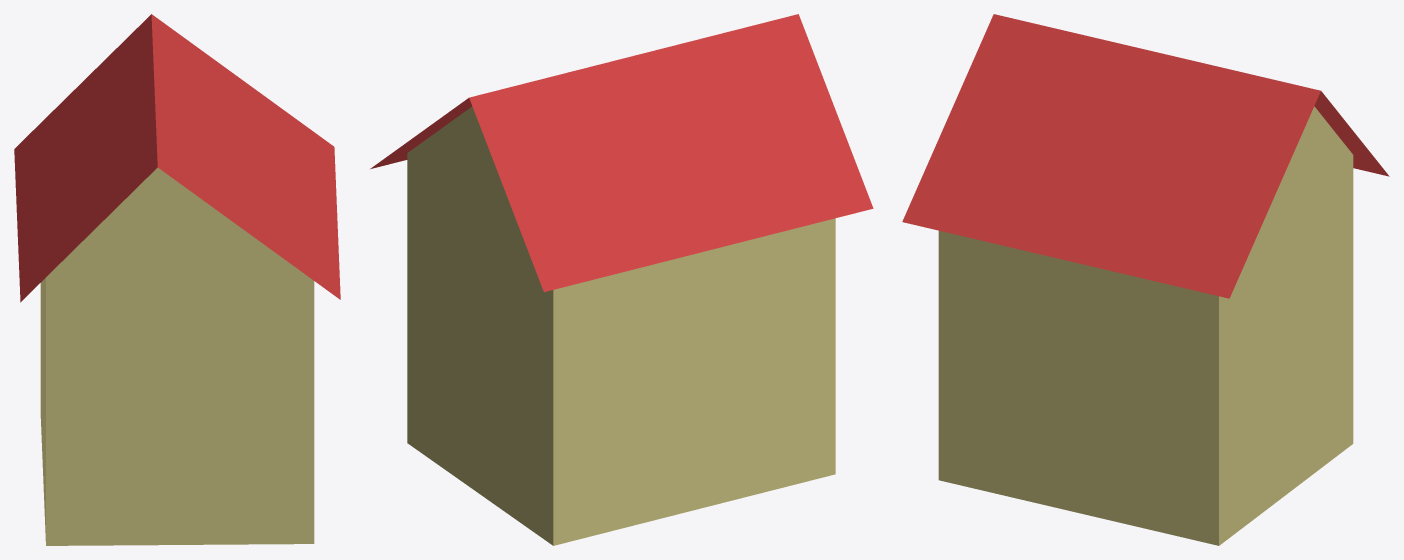
3 renders of one model, left to right at view 1: azimuth 30°, elevation 25°; view 2: azimuth 150°, elevation 25°; view 3: azimuth 270°, elevation 25°, orthographic. The views are drawn at different scales.
Size of the model in its own units: 8.77 by 9.09 by 8.25.
